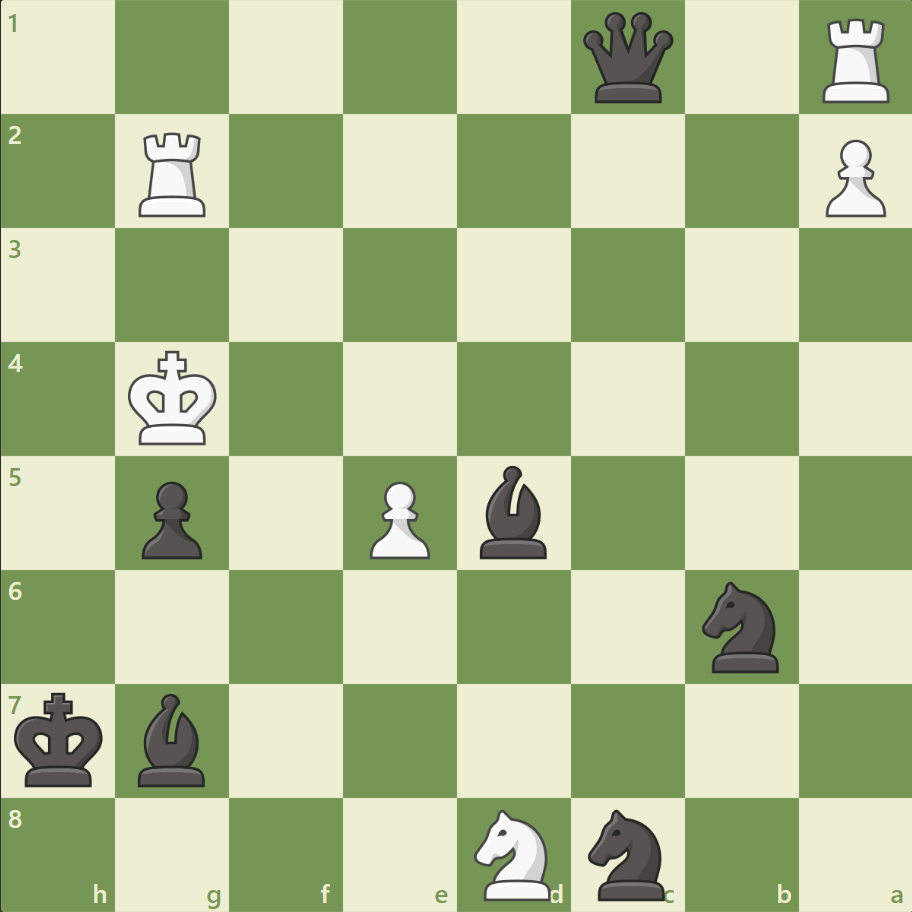K: (124, 344, 224, 452)
N: (465, 802, 562, 904)
P: (361, 473, 435, 564), (815, 132, 889, 223)
R: (814, 12, 897, 109), (133, 125, 215, 222)
b: (131, 687, 215, 790), (471, 460, 555, 563)
k: (11, 685, 111, 793)
n: (579, 802, 676, 904), (692, 575, 789, 677)
p: (133, 473, 208, 564)
q: (578, 9, 677, 108)
